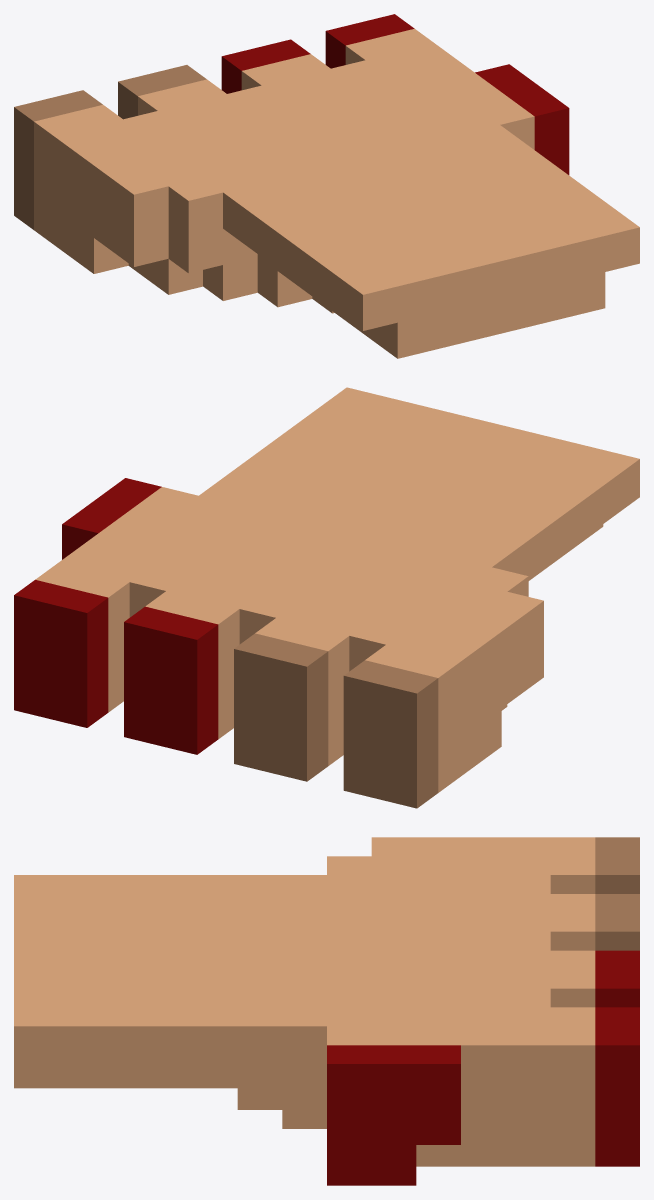
File: PlayerHand0F.obj
3 renders of one model, top to bottom at view 1: azimuth 30°, elevation 25°; view 2: azimuth 150°, elevation 25°; view 3: azimuth 270°, elevation 25°, orthographic. The views are drawn at different scales.
Size of the model in its own units: 1.2 by 0.3 by 1.4.
1 material, 1 textured.
